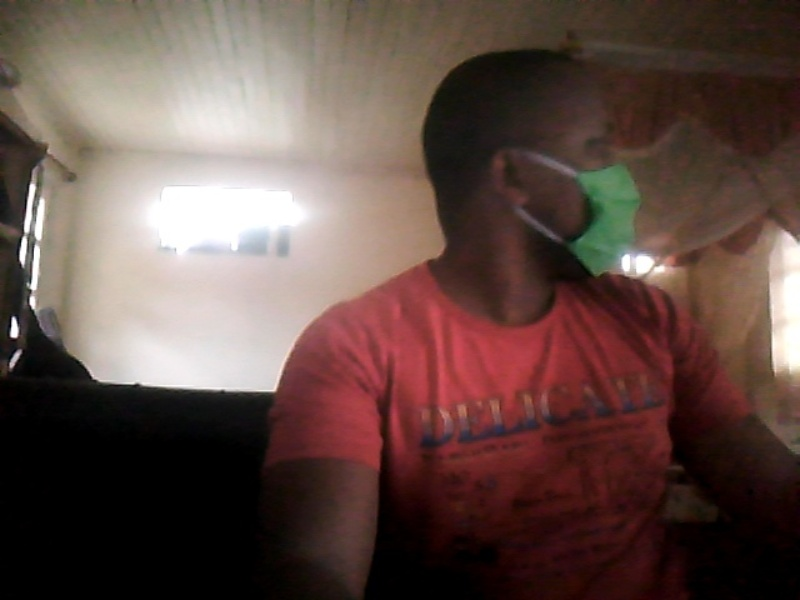ManaoArotava: (479, 50, 673, 292)
